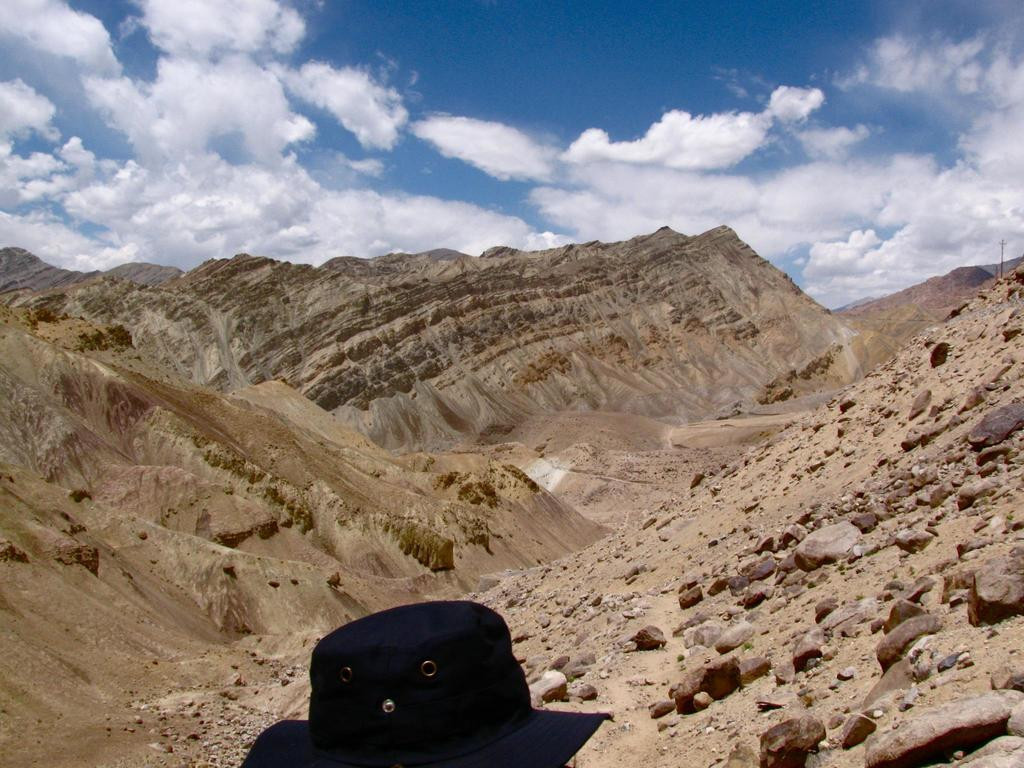Hat: (238, 604, 606, 766)
